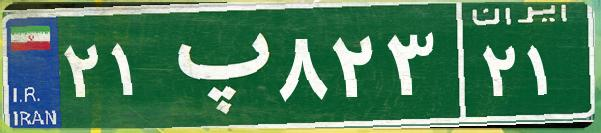1: (110, 28, 158, 105), (525, 38, 570, 115)
2: (330, 28, 385, 110), (57, 26, 110, 107), (475, 38, 525, 113)
3: (385, 28, 445, 110)
8: (273, 28, 330, 110)
پ: (158, 15, 273, 115)
